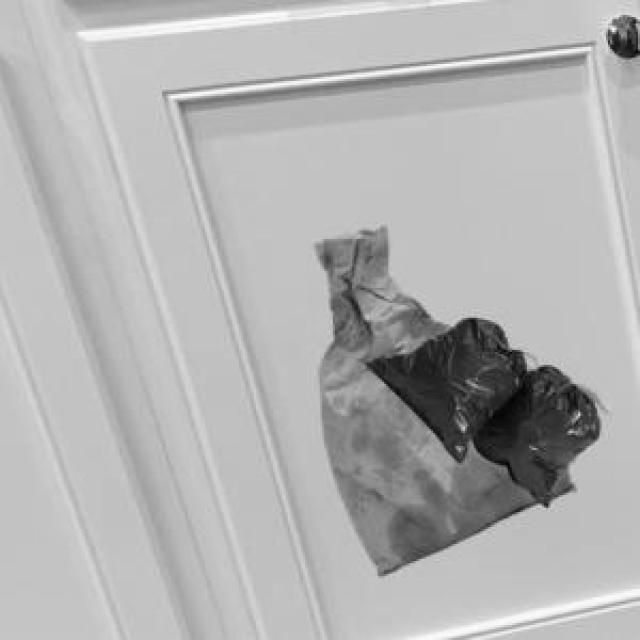miscellaneous trash: (363, 314, 608, 504)
paper: (312, 224, 572, 572)
